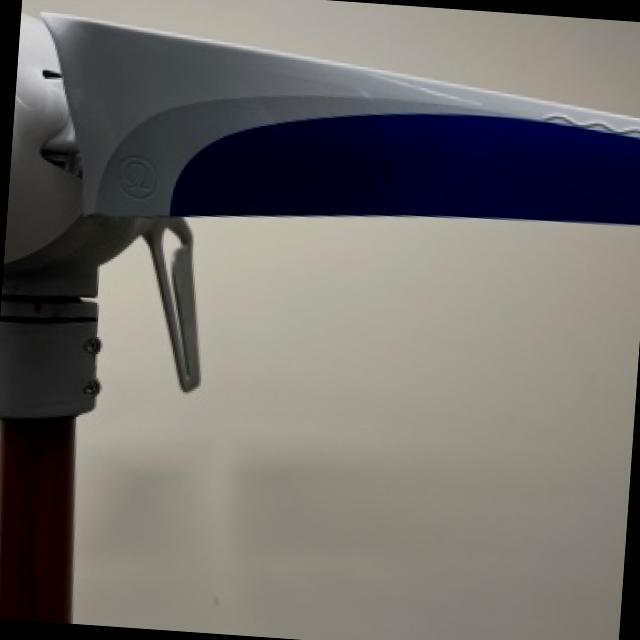healthy: (77, 219, 640, 640)
